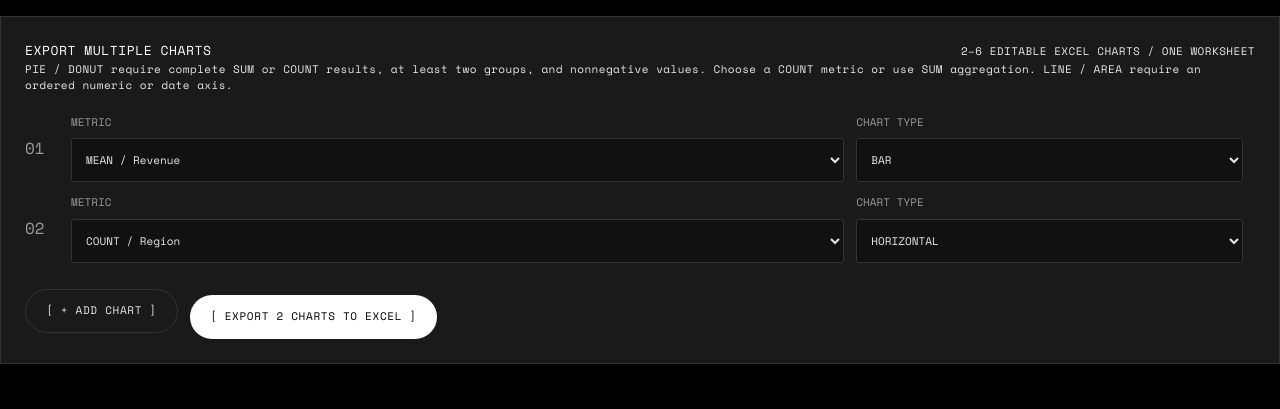
Dashboard multi-chart Excel export › blocks duplicate metric and chart combinations
The width and height of the screenshot is (1280, 409).
Select "MEAN / Revenue" in the dropdown named "Chart 2 metric". click: (458, 240)
box: 71,218 -> 844,262
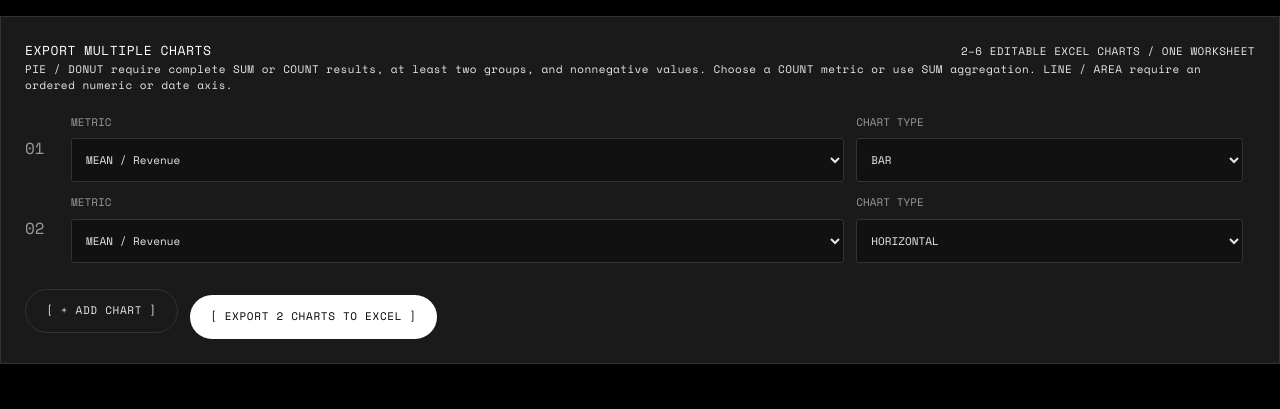
Select "BAR" in the dropdown named "Chart 2 type". click: (1050, 240)
box: 856,218 -> 1243,262
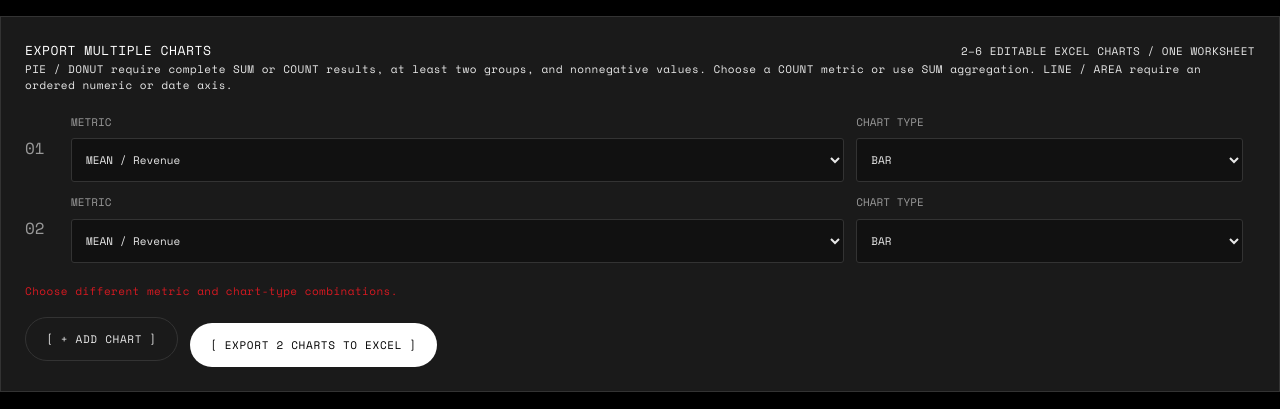
Check: the button "[ EXPORT 2 CHARTS TO EXCEL ]" is disabled, box 190,323 -> 437,367
